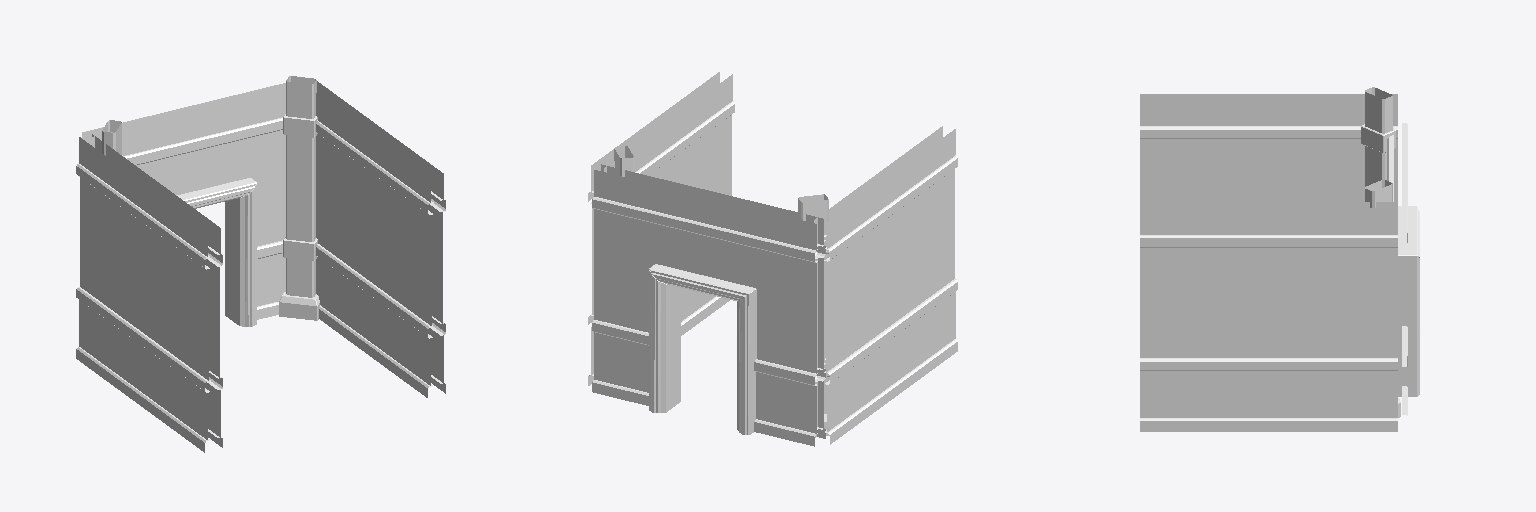
Rendered from Prefab_09.obj.
The picture shows the model from 3 angles: view 1: azimuth 30°, elevation 25°; view 2: azimuth 150°, elevation 25°; view 3: azimuth 270°, elevation 25°; orthographic projection.
Visible parts, largest first — view 1: Object005, Object006, Object001, Box002, Box003; view 2: Object001, Object006, Object005, Box003; view 3: Object005, Object006, Box003, Object001, Box002.
Boxes of the visible parts, x1,y1,x2,y2 form: Object005: [177, 81, 445, 397]; Object006: [76, 134, 222, 452]; Object001: [82, 83, 285, 319]; Box002: [279, 76, 319, 320]; Box003: [102, 120, 124, 156]; Object001: [592, 164, 825, 446]; Object006: [814, 126, 957, 444]; Object005: [588, 72, 756, 434]; Box003: [798, 194, 829, 436]; Object005: [1140, 202, 1419, 431]; Object006: [1140, 94, 1397, 201]; Box003: [1361, 87, 1395, 186]; Object001: [1387, 123, 1407, 415]; Box002: [1365, 180, 1400, 417].
Bounding box in the file's own units: 433 × 400 × 434.